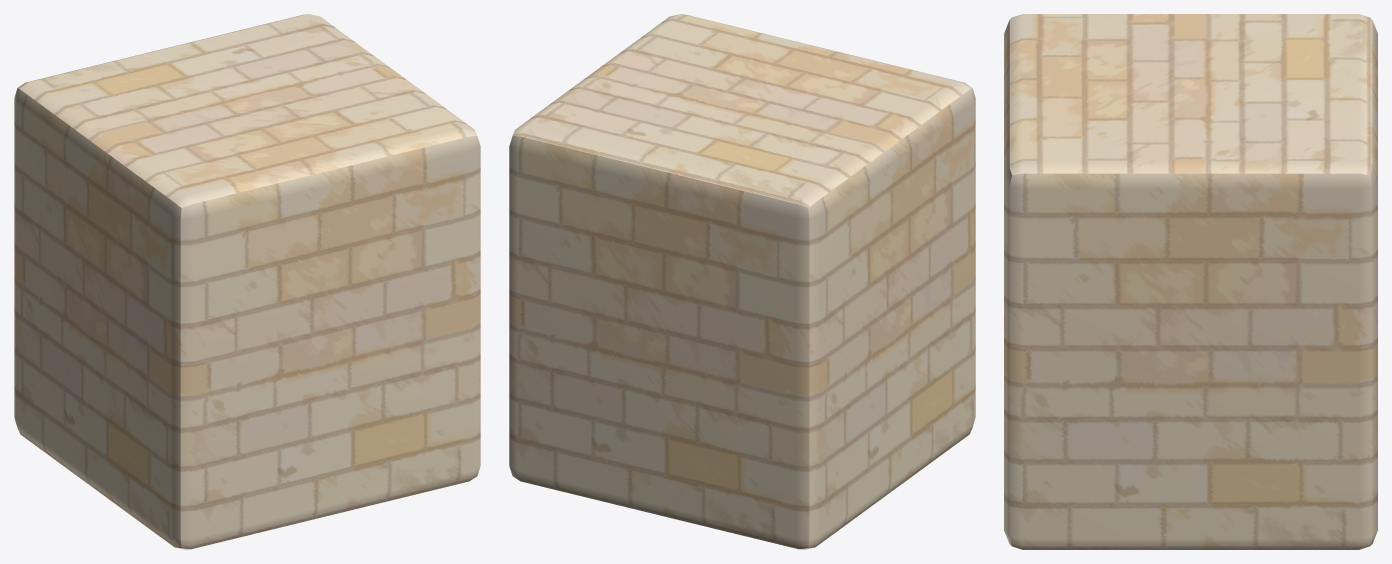
The model's file is B_Square.fbx.
3 renders of one model, left to right at view 1: azimuth 30°, elevation 25°; view 2: azimuth 150°, elevation 25°; view 3: azimuth 270°, elevation 25°, orthographic. The views are drawn at different scales.
Visible parts, largest first — view 1: pCube7; view 2: pCube7; view 3: pCube7.
Part boxes in pixels (bbox=[...]): pCube7: bbox=[14, 14, 480, 549]; pCube7: bbox=[509, 14, 975, 549]; pCube7: bbox=[1004, 14, 1377, 549].
Size of the model in its own units: 13.56 by 14.9 by 13.02.
